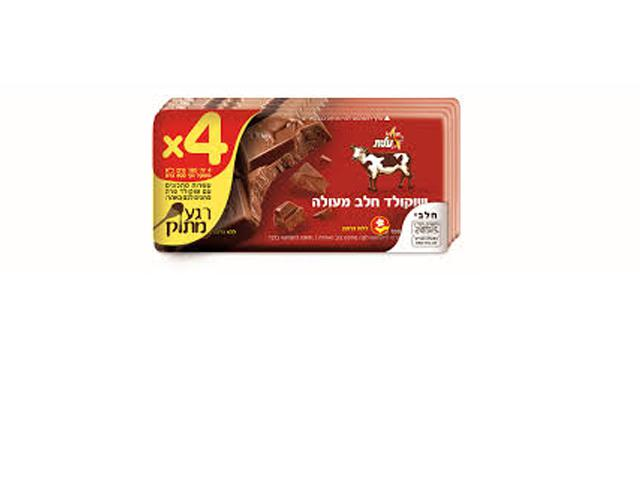chocolate: (147, 98, 453, 260)
